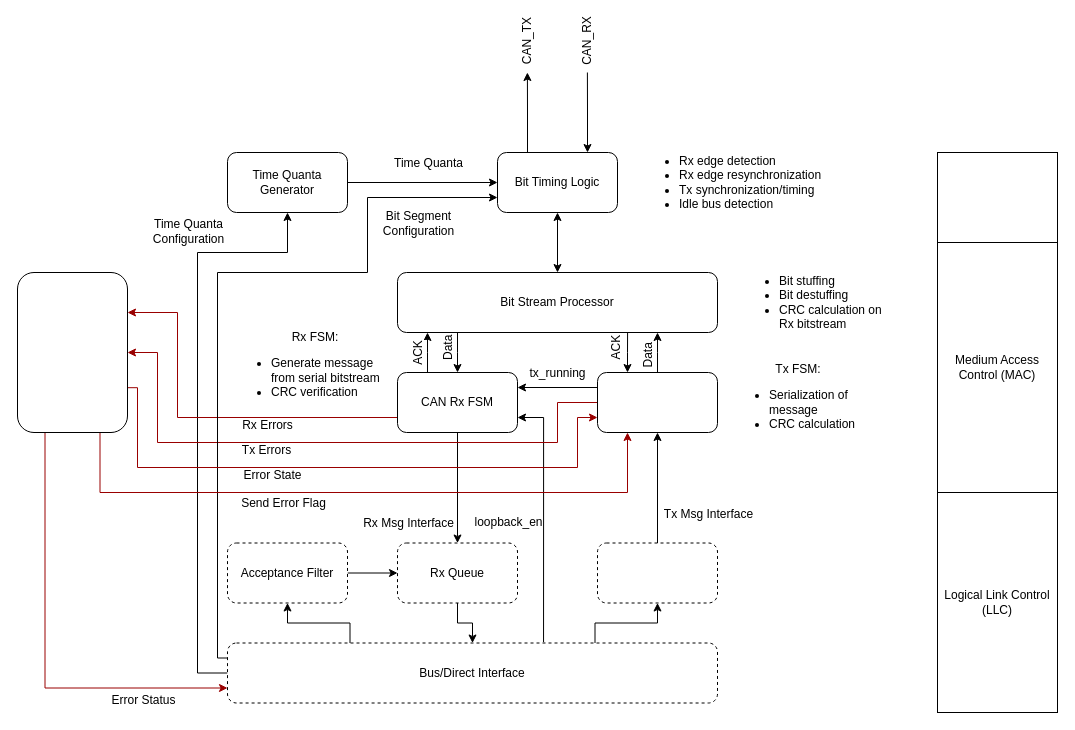
Image size: 1075x730. Some labels were removed from this diagram. Each missing label, with the centre of its shape:
CAN Tx FSM: (x=657, y=402)
Error Management Logic: (x=72, y=352)
Physical layer: (x=997, y=197)
Tx Queue: (x=657, y=572)
